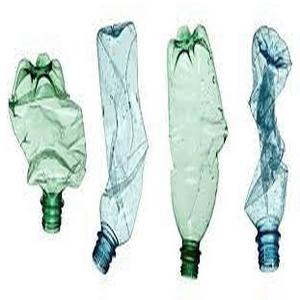Plastic: (163, 23, 229, 284), (5, 54, 86, 239), (92, 22, 148, 280), (243, 24, 292, 274)
